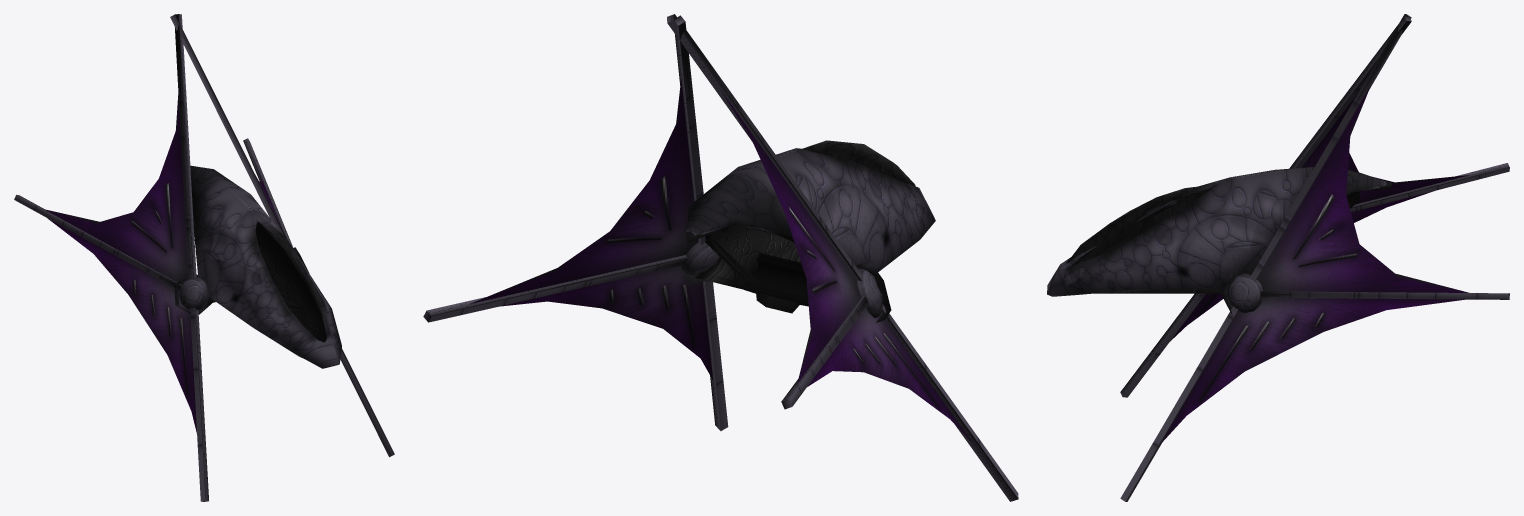
Rendered from shizu.obj.
3 renders of one model, left to right at view 1: azimuth 30°, elevation 25°; view 2: azimuth 150°, elevation 25°; view 3: azimuth 270°, elevation 25°, orthographic. The views are drawn at different scales.
Bounding box in the file's own units: 29.07 × 44.34 × 42.76.
4 materials, 4 textured.
